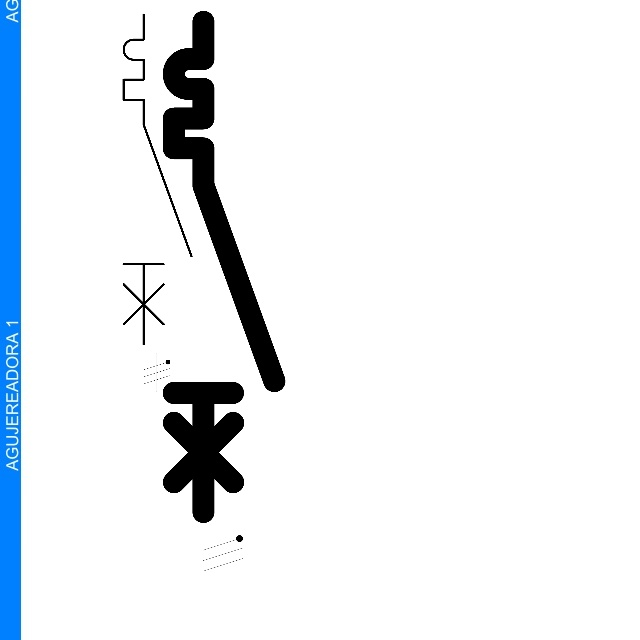interruptor_termomagnetico: (161, 9, 287, 524), (115, 6, 200, 353)
